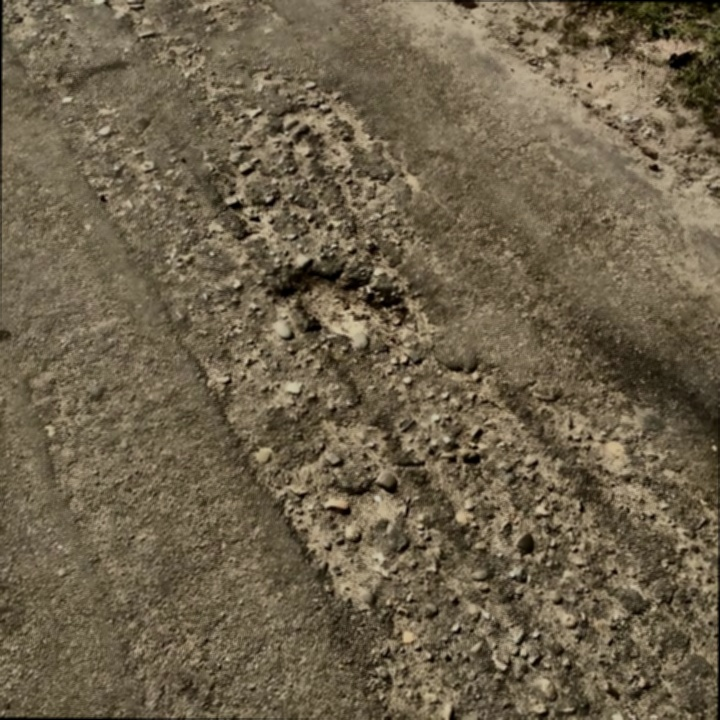pothole: (276, 263, 401, 340)
